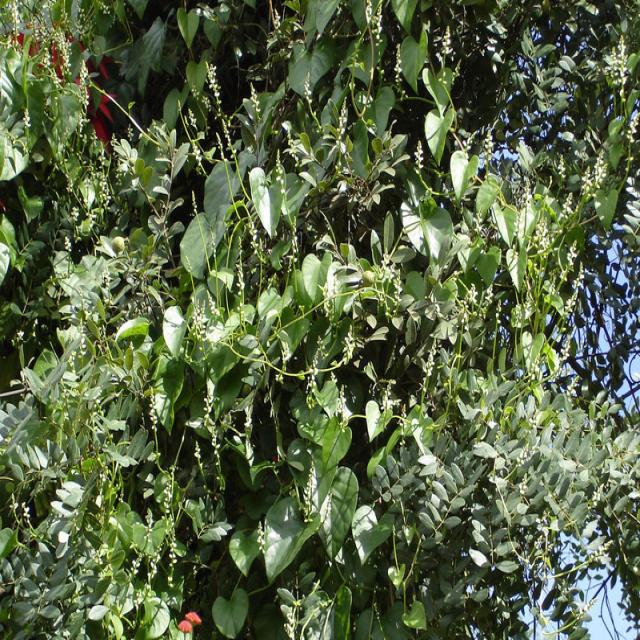Medicinal-Basale: (155, 59, 378, 402), (342, 23, 540, 296), (208, 352, 380, 567)
